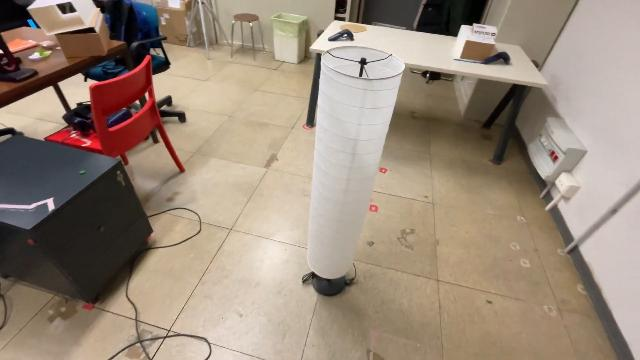Chair: (41, 52, 188, 184)
Lamp: (298, 38, 408, 304)
Stool: (228, 10, 266, 66)
